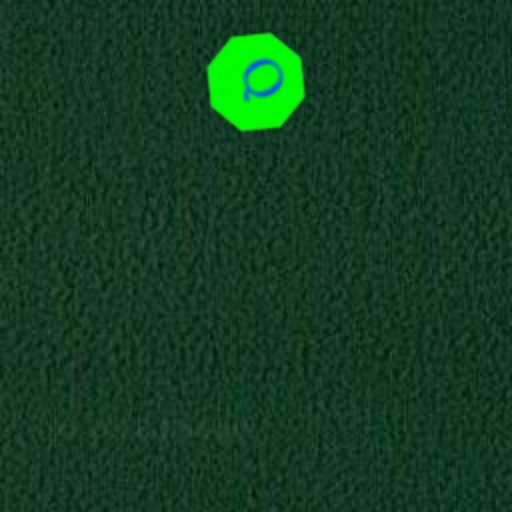octagon: (186, 12, 326, 152)
